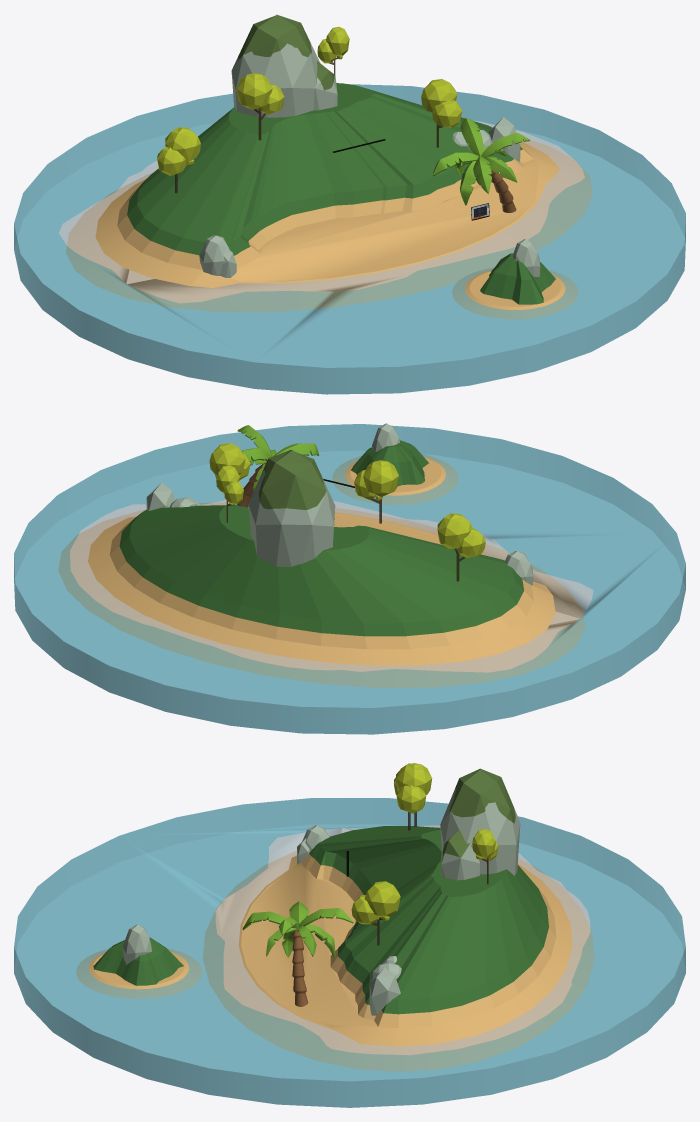
File: new_island.glb
3 views of the same model, one above another, from view 1: azimuth 30°, elevation 25°; view 2: azimuth 150°, elevation 25°; view 3: azimuth 270°, elevation 25° (orthographic).
Parts seen in each view (by area): view 1: Cylinder002, Cylinder003, Environment_PalmTree_2, GeoSphere019, GeoSphere016, GeoSphere013, GeoSphere009, GeoSphere010, GeoSphere017; view 2: Cylinder002, Cylinder003, Environment_PalmTree_2, GeoSphere019, GeoSphere016, GeoSphere009, GeoSphere013, GeoSphere017; view 3: Cylinder002, Cylinder003, Environment_PalmTree_2, GeoSphere009, GeoSphere019, GeoSphere020, GeoSphere013.
Part boxes in pixels (<box>): Cylinder002: <box>14,84,685,394</box>; Cylinder003: <box>66,14,592,318</box>; Environment_PalmTree_2: <box>432,118,529,212</box>; GeoSphere019: <box>236,73,272,109</box>; GeoSphere016: <box>165,127,200,161</box>; GeoSphere013: <box>317,26,349,63</box>; GeoSphere009: <box>421,79,457,112</box>; GeoSphere010: <box>432,100,462,127</box>; GeoSphere017: <box>157,146,186,175</box>; Cylinder002: <box>14,424,685,734</box>; Cylinder003: <box>58,423,584,687</box>; Environment_PalmTree_2: <box>237,425,319,507</box>; GeoSphere019: <box>363,460,398,496</box>; GeoSphere016: <box>437,513,472,549</box>; GeoSphere009: <box>209,443,245,475</box>; GeoSphere013: <box>216,465,243,504</box>; GeoSphere017: <box>457,528,485,557</box>; Cylinder002: <box>14,798,685,1107</box>; Cylinder003: <box>76,768,594,1071</box>; Environment_PalmTree_2: <box>242,901,353,1006</box>; GeoSphere009: <box>364,881,400,916</box>; GeoSphere019: <box>396,763,432,794</box>; GeoSphere020: <box>396,785,426,813</box>; GeoSphere013: <box>472,828,498,861</box>.
Bounding box in the file's own units: 77.07 × 24.42 × 77.18.
14 materials, 2 textured.
